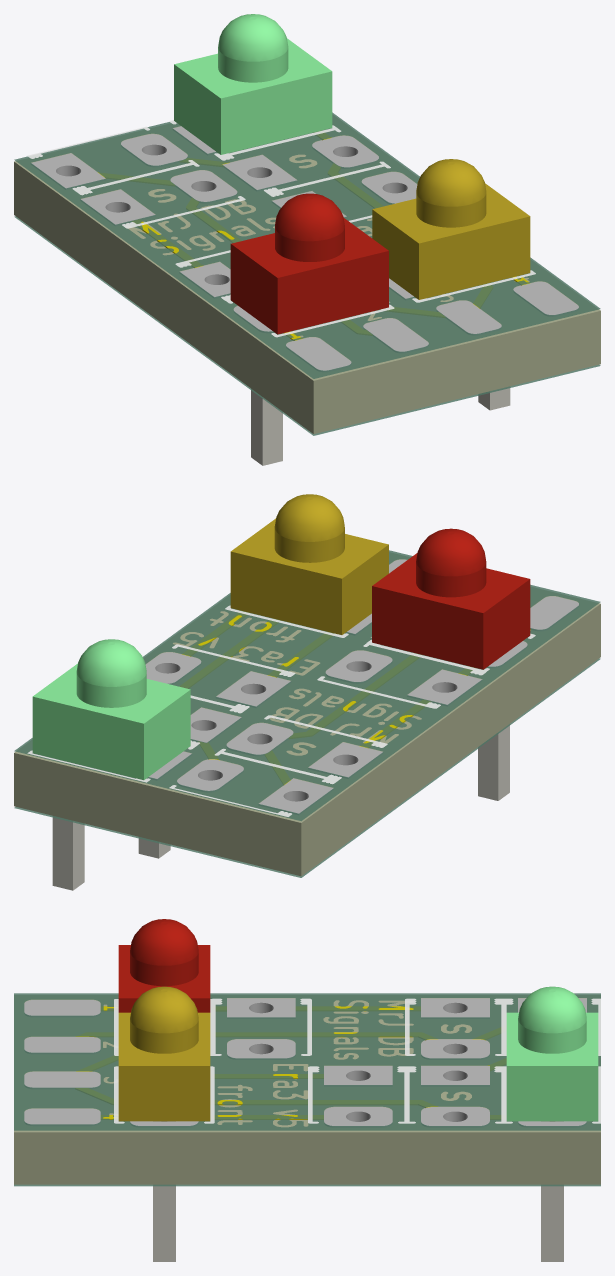
The model's file is MrJ-DB-Era3-prod-entry-test-w3.glb.
3 renders of one model, top to bottom at view 1: azimuth 30°, elevation 25°; view 2: azimuth 150°, elevation 25°; view 3: azimuth 270°, elevation 25°, orthographic. The views are drawn at different scales.
Visible parts, largest first — view 1: =>[0:1:1:13], =>[0:1:1:11], =>[0:1:1:5], =>[0:1:1:9], =>[0:1:1:3], =>[0:1:1:7], =>[0:1:1:10], =>[0:1:1:8], =>[0:1:1:12]; view 2: =>[0:1:1:13], =>[0:1:1:11], =>[0:1:1:7], =>[0:1:1:5], =>[0:1:1:3], =>[0:1:1:9], =>[0:1:1:8], =>[0:1:1:10], =>[0:1:1:12]; view 3: =>[0:1:1:13], =>[0:1:1:11], =>[0:1:1:9], =>[0:1:1:3], =>[0:1:1:7], =>[0:1:1:5], =>[0:1:1:8], =>[0:1:1:10], =>[0:1:1:12].
Boxes of the visible parts, bbox=[...] form: =>[0:1:1:13]: bbox=[14, 115, 600, 433]; =>[0:1:1:11]: bbox=[14, 112, 600, 378]; =>[0:1:1:5]: bbox=[230, 193, 388, 465]; =>[0:1:1:9]: bbox=[31, 126, 578, 371]; =>[0:1:1:3]: bbox=[372, 159, 530, 410]; =>[0:1:1:7]: bbox=[174, 14, 332, 154]; =>[0:1:1:10]: bbox=[27, 120, 535, 337]; =>[0:1:1:8]: bbox=[98, 133, 529, 340]; =>[0:1:1:12]: bbox=[14, 216, 600, 435]; =>[0:1:1:13]: bbox=[14, 552, 600, 876]; =>[0:1:1:11]: bbox=[14, 550, 600, 821]; =>[0:1:1:7]: bbox=[32, 639, 190, 890]; =>[0:1:1:5]: bbox=[372, 528, 530, 800]; =>[0:1:1:3]: bbox=[230, 494, 388, 634]; =>[0:1:1:9]: bbox=[145, 559, 578, 814]; =>[0:1:1:8]: bbox=[180, 613, 530, 784]; =>[0:1:1:10]: bbox=[27, 605, 535, 816]; =>[0:1:1:12]: bbox=[14, 658, 600, 877]; =>[0:1:1:13]: bbox=[14, 995, 600, 1184]; =>[0:1:1:11]: bbox=[14, 993, 600, 1130]; =>[0:1:1:9]: bbox=[24, 998, 586, 1126]; =>[0:1:1:3]: bbox=[118, 986, 210, 1261]; =>[0:1:1:7]: bbox=[506, 986, 598, 1261]; =>[0:1:1:5]: bbox=[118, 919, 210, 1012]; =>[0:1:1:8]: bbox=[75, 1006, 505, 1119]; =>[0:1:1:10]: bbox=[114, 998, 600, 1123]; =>[0:1:1:12]: bbox=[14, 1184, 600, 1186].
Bounding box in the file's own units: 0.00851 × 0.0071 × 0.0154.
